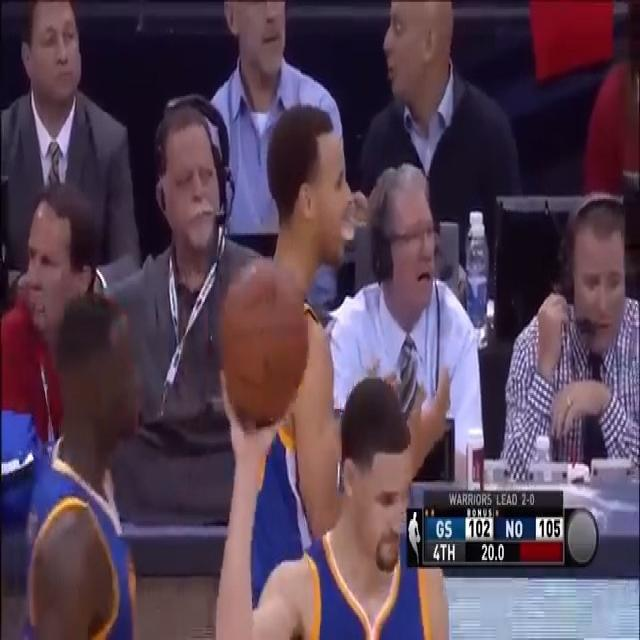basketball: (221, 258, 309, 430)
